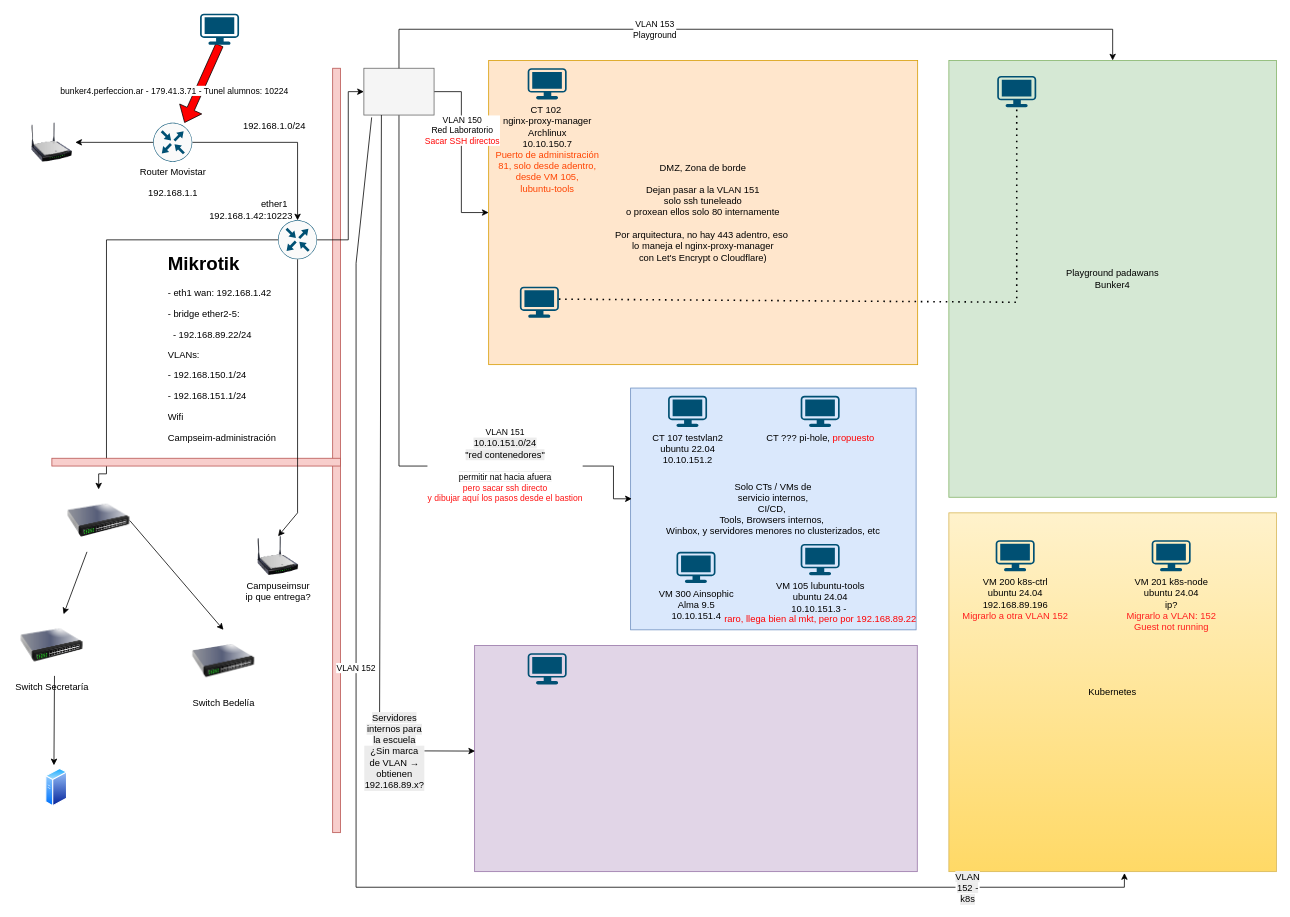
This 1290x917 diagram has some shape labels left out. Each missing label, with the centre of its shape:
Campuseim-buffet: (x=51, y=141)
CT 100 testvlan3 ubuntu 22.04 10.10.153.2 Revisar DNS con Lautaro: (x=1016, y=91)
CT 103 bastion arch 10.10.150.8: (x=538, y=301)
CT 106 testvlan ubuntu 22.04 192.168.89.52 Ej, un Rails, un Streamlit: (x=546, y=668)
Proxmox eno1 → vmbr0 192.168.1.25: (x=398, y=91)
Router MKT: (x=297, y=239)
Sopalajo 192.168.89.100: (x=56, y=787)
Switch Lab Al bridge 192.168.89.0/24: (x=98, y=520)
